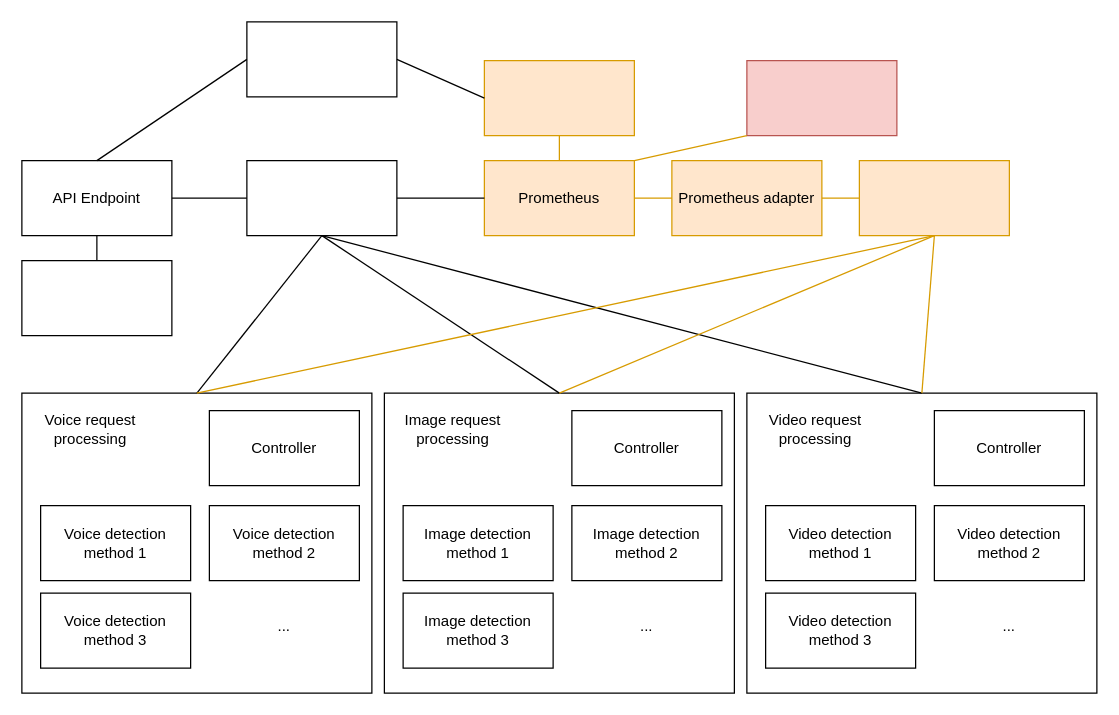
Image size: 1119x715. Some labels were removed from this diagram. The centre of each missing label's shape, as x and y in pixels:
"Grafana" belongs at point (558, 97).
"Horizontal pod autoscaler" belongs at point (933, 197).
"Load balancer" belongs at point (321, 59).
"MSSQL Database" belongs at point (96, 297).
"Node exporter (deamon set)" belongs at point (821, 97).
"RabbitMQ" belongs at point (321, 197).
